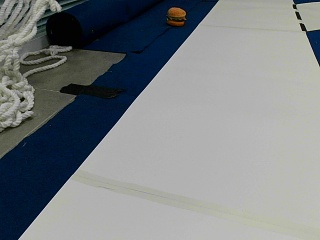burger: (166, 6, 187, 26)
